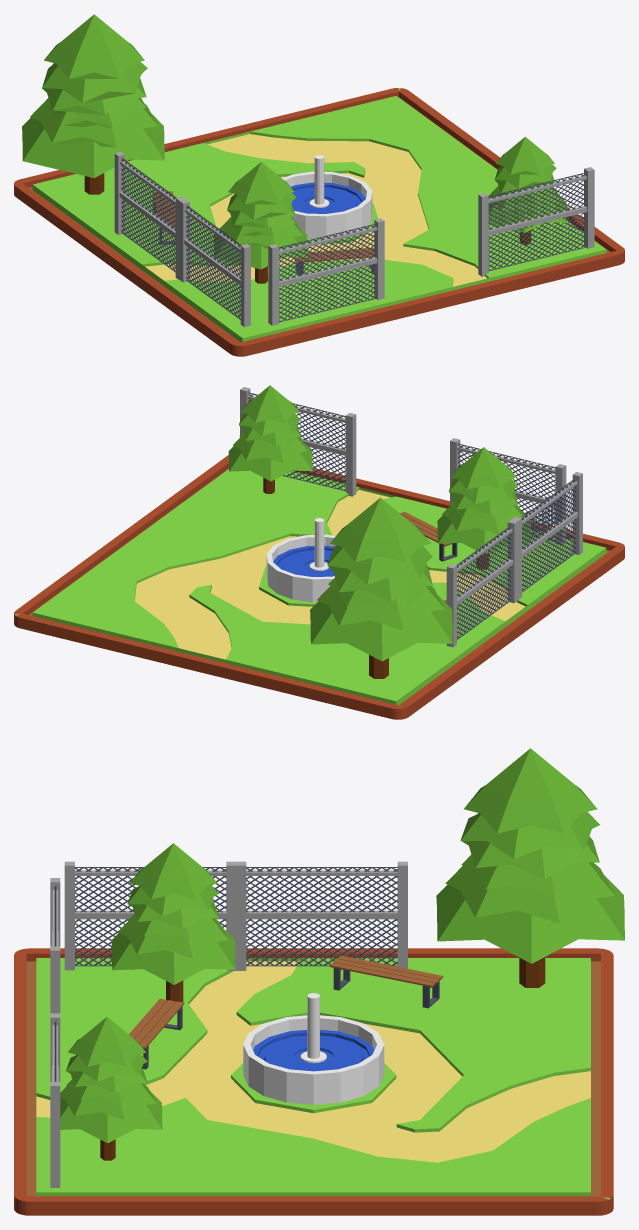
Rendered from park_centre.glb.
3 views of the same model, one above another, from view 1: azimuth 30°, elevation 25°; view 2: azimuth 150°, elevation 25°; view 3: azimuth 270°, elevation 25° (orthographic). The views are drawn at different scales.
Parts seen in each view (by area): view 1: Plane, Circle.002, Plane.005, Plane.004, Circle.003, Plane.002, Circle, Plane.003, Circle.001, Plane.006; view 2: Plane, Circle.002, Circle.003, Circle.001, Plane.003, Plane.002, Circle, Plane.004, Plane.005, Plane.006; view 3: Plane, Circle.002, Plane.003, Circle.003, Circle, Circle.001, Plane.002, Plane.007, Plane.004, Plane.006, Plane.005.
Part boxes in pixels (x1=…): Plane: x1=14, y1=88, x2=624, y2=356; Circle.002: x1=22, y1=14, x2=164, y2=194; Plane.005: x1=268, y1=218, x2=384, y2=325; Plane.004: x1=478, y1=167, x2=594, y2=276; Circle.003: x1=214, y1=162, x2=307, y2=283; Plane.002: x1=179, y1=199, x2=250, y2=327; Circle: x1=282, y1=155, x2=372, y2=239; Plane.003: x1=114, y1=152, x2=185, y2=279; Circle.001: x1=488, y1=136, x2=566, y2=244; Plane.006: x1=294, y1=247, x2=374, y2=275; Plane: x1=14, y1=455, x2=624, y2=719; Circle.002: x1=310, y1=497, x2=452, y2=678; Circle.003: x1=437, y1=447, x2=531, y2=569; Circle.001: x1=228, y1=385, x2=312, y2=493; Plane.003: x1=446, y1=519, x2=518, y2=647; Plane.002: x1=512, y1=472, x2=582, y2=599; Circle: x1=266, y1=518, x2=335, y2=602; Plane.004: x1=240, y1=387, x2=356, y2=496; Plane.005: x1=450, y1=438, x2=566, y2=545; Plane.006: x1=400, y1=511, x2=457, y2=561; Plane: x1=14, y1=948, x2=613, y2=1215; Circle.002: x1=436, y1=748, x2=624, y2=987; Plane.003: x1=236, y1=861, x2=407, y2=970; Circle.003: x1=111, y1=843, x2=235, y2=1002; Circle: x1=243, y1=993, x2=384, y2=1104; Circle.001: x1=60, y1=1017, x2=162, y2=1160; Plane.002: x1=64, y1=861, x2=236, y2=970; Plane.007: x1=329, y1=955, x2=443, y2=1008; Plane.004: x1=50, y1=1013, x2=60, y2=1187; Plane.006: x1=129, y1=999, x2=184, y2=1069; Plane.005: x1=50, y1=878, x2=60, y2=1013.
Size of the model in its own units: 10.14 by 4.43 by 9.87.
Materials: 1 (1 with a texture image).
